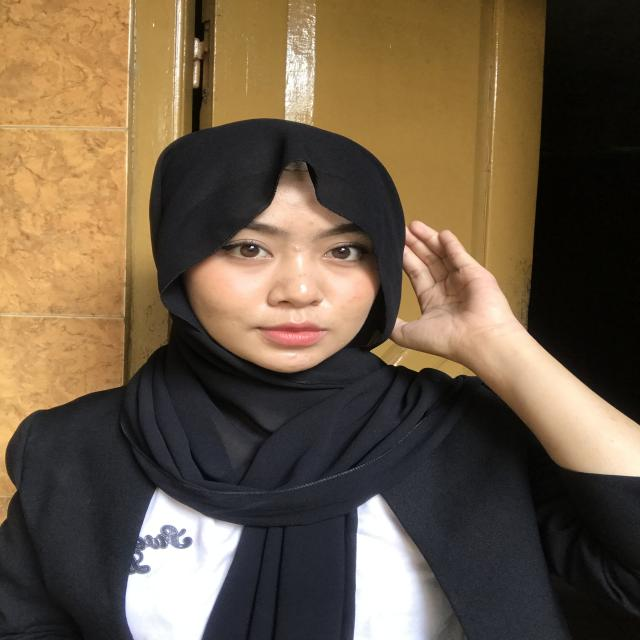mendengar: (384, 212, 524, 380)
